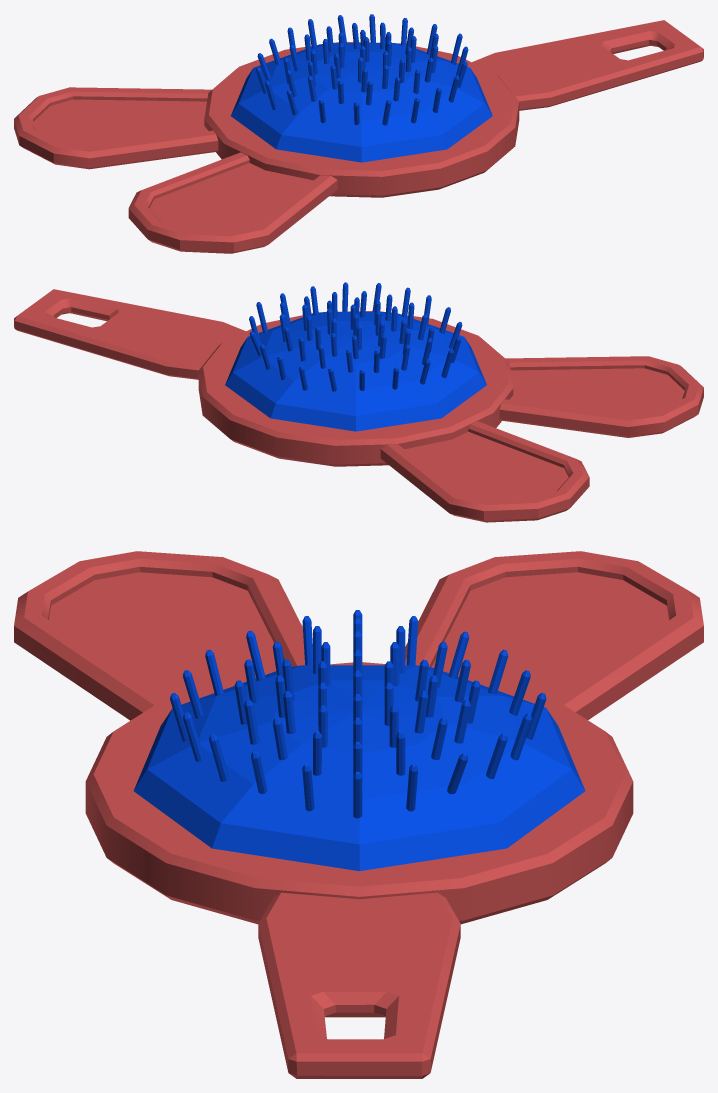
File: Brush_forPaint.fbx
3 renders of one model, top to bottom at view 1: azimuth 30°, elevation 25°; view 2: azimuth 150°, elevation 25°; view 3: azimuth 270°, elevation 25°, orthographic. The views are drawn at different scales.
Parts seen in each view (by area): view 1: pCube133, pSphere4; view 2: pCube133, pSphere4; view 3: pCube133, pSphere4.
Part boxes in pixels (x1=…): pCube133: x1=14, y1=20, x2=703, y2=253; pSphere4: x1=231, y1=14, x2=492, y2=162; pCube133: x1=14, y1=289, x2=703, y2=522; pSphere4: x1=225, y1=282, x2=486, y2=431; pCube133: x1=14, y1=551, x2=703, y2=1078; pSphere4: x1=133, y1=610, x2=585, y2=871.
Bounding box in the file's own units: 10.27 × 1.42 × 5.91.
